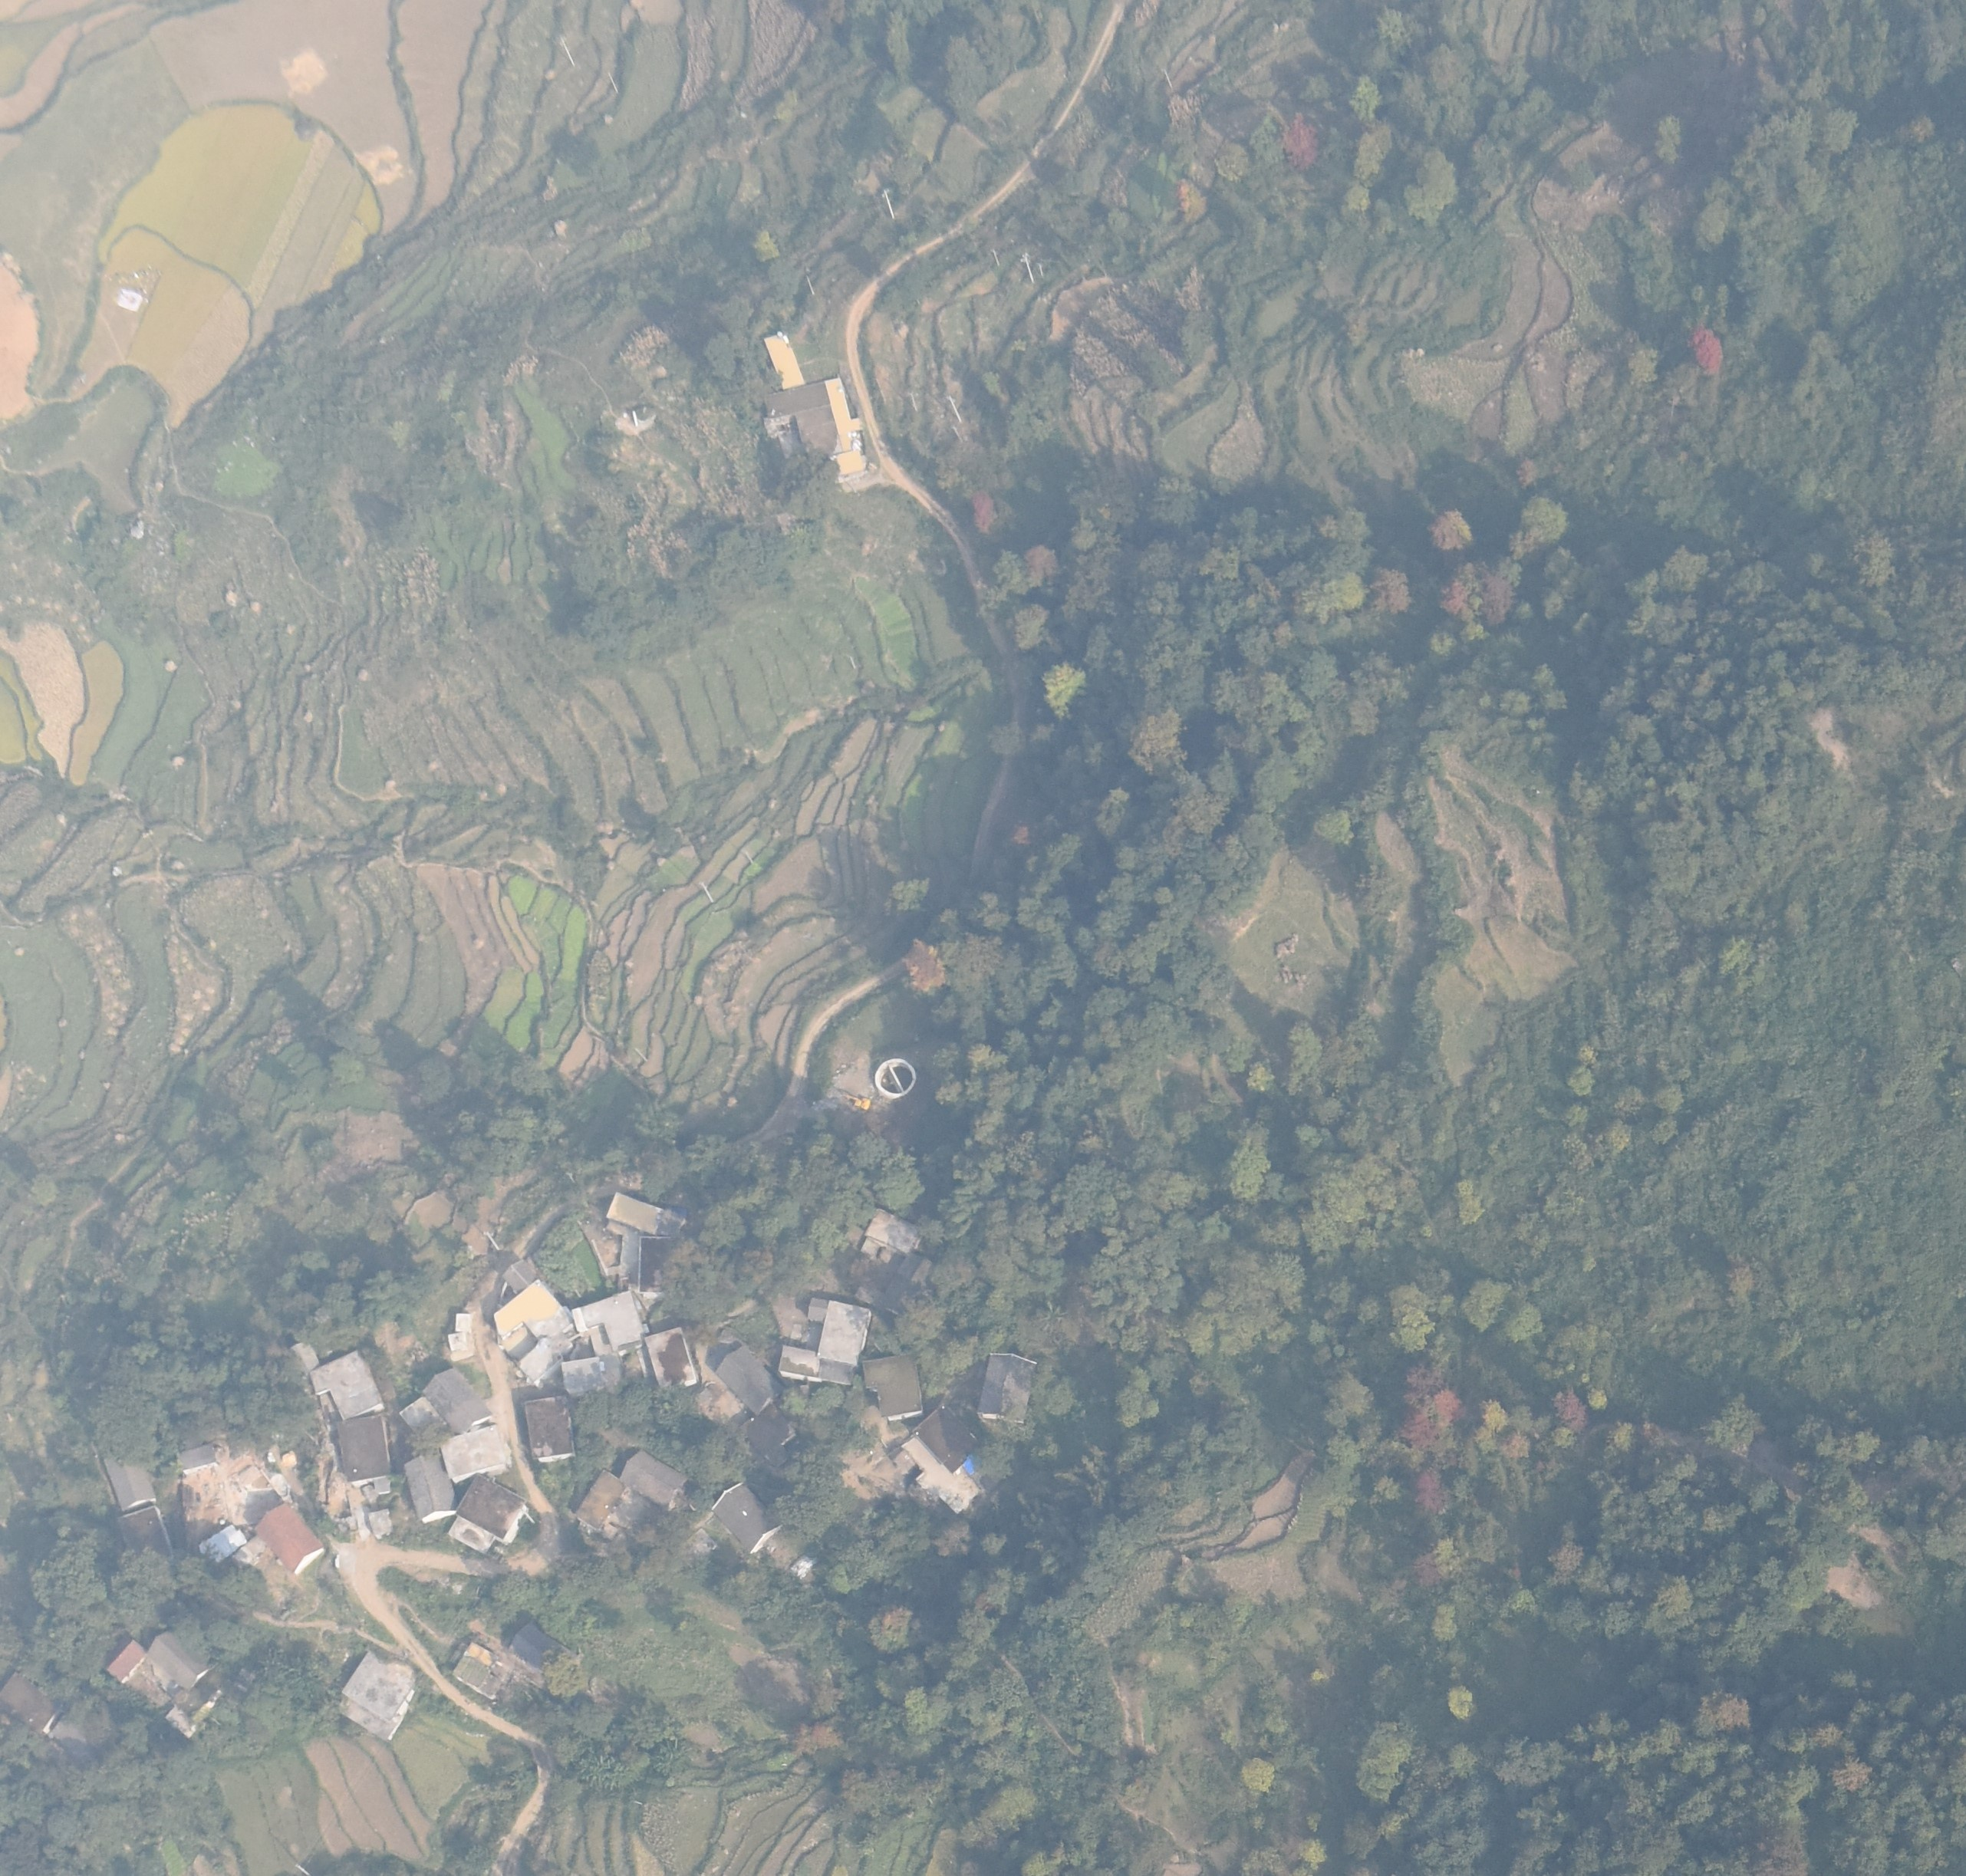building: (765, 377, 864, 476), (902, 1402, 983, 1514), (493, 1279, 572, 1379), (339, 1650, 416, 1741), (400, 1367, 491, 1437), (449, 1474, 525, 1551), (309, 1348, 384, 1420), (711, 1479, 783, 1555), (255, 1502, 325, 1574), (716, 1344, 785, 1413), (337, 1413, 393, 1495), (862, 1357, 925, 1421), (809, 1299, 871, 1365), (572, 1290, 641, 1350), (0, 1671, 63, 1734), (620, 1450, 688, 1507), (402, 1451, 456, 1523), (979, 1353, 1034, 1423), (146, 1629, 209, 1688), (441, 1425, 506, 1481), (525, 1395, 576, 1464), (116, 1504, 172, 1565), (506, 1620, 562, 1678), (451, 1639, 506, 1699), (104, 1446, 154, 1509), (646, 1328, 697, 1386), (576, 1469, 625, 1529), (762, 332, 806, 391), (607, 1193, 664, 1234), (641, 1235, 679, 1290), (198, 1525, 246, 1567), (105, 1639, 146, 1683), (562, 1355, 604, 1395), (778, 1344, 822, 1383), (177, 1444, 219, 1474), (448, 1309, 474, 1355), (504, 1258, 535, 1292)
cable-tower: (555, 35, 574, 65), (944, 397, 964, 425), (1020, 253, 1034, 286), (881, 188, 895, 219), (606, 72, 620, 93), (906, 390, 918, 412), (951, 425, 964, 444), (521, 1507, 535, 1523), (804, 274, 814, 295), (990, 247, 999, 267), (1036, 263, 1044, 277)
prefabricated-house: (964, 1457, 979, 1474)
